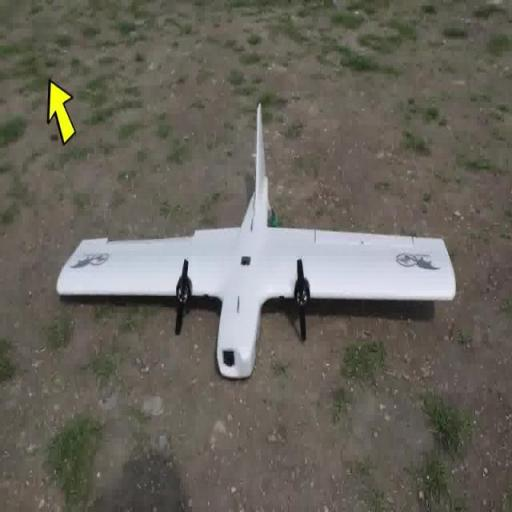uav: (52, 103, 458, 387)
